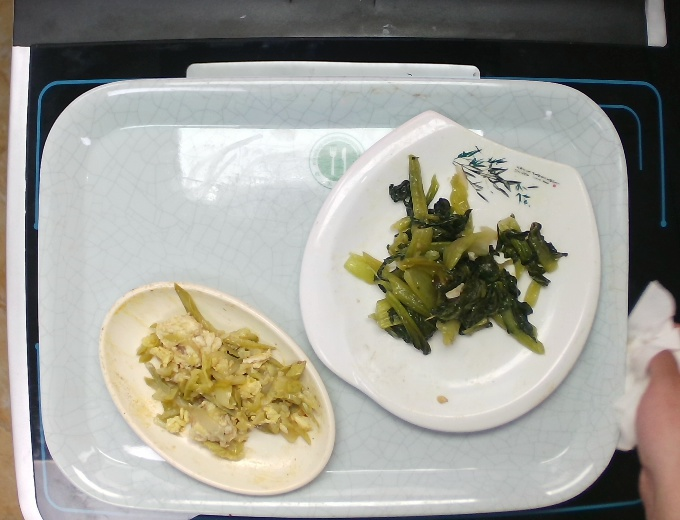JYsf-Mian_Pan: (296, 107, 603, 434)
JYsf-Tuo_Yuan_Wan: (95, 278, 338, 498)
